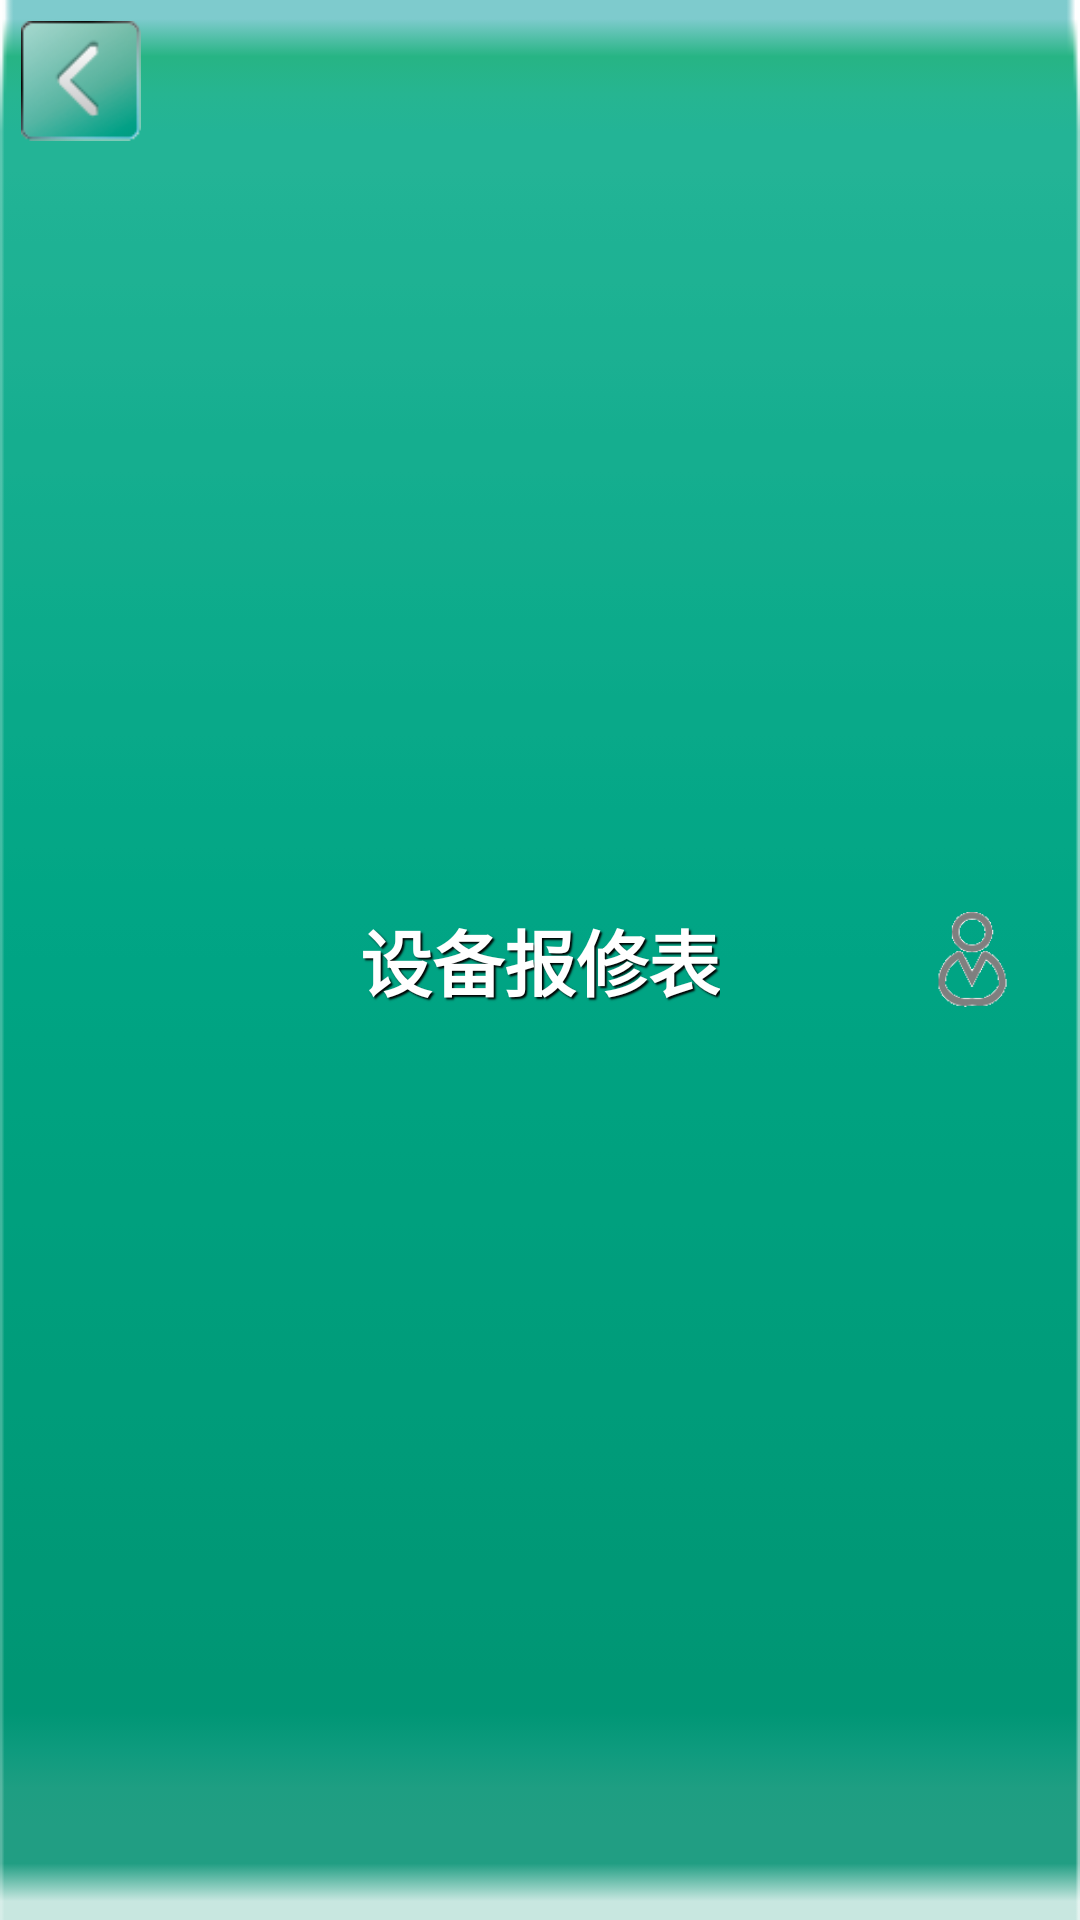

Icon bounding boxes for this 1080×1920 phone screenshot, format (x1, y1, x2, y2):
back: (21, 21, 141, 141)
user: (938, 912, 1007, 1007)
